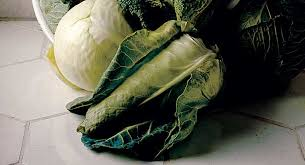cabbage: (76, 35, 234, 142)
